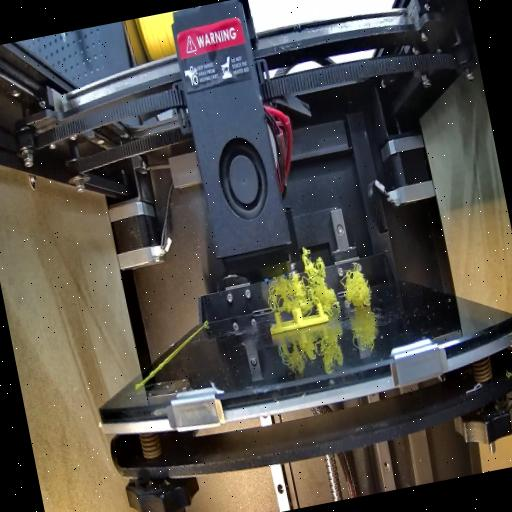spaghetti: (258, 241, 340, 322), (335, 256, 379, 314)
